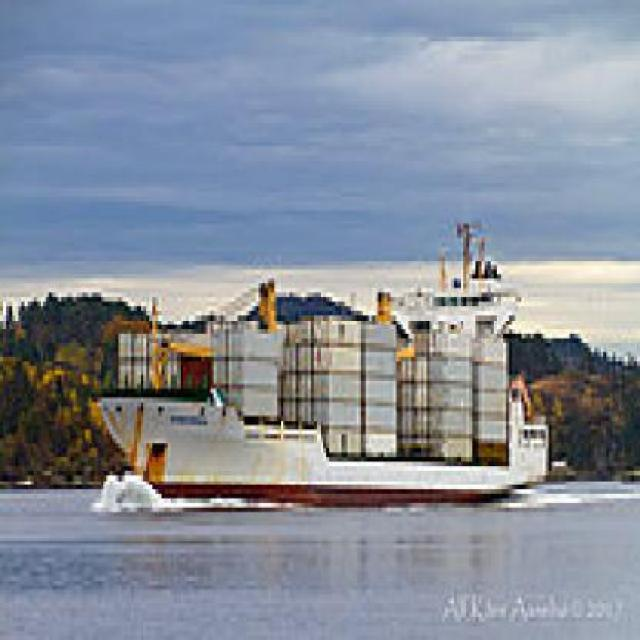container: (99, 243, 580, 517)
